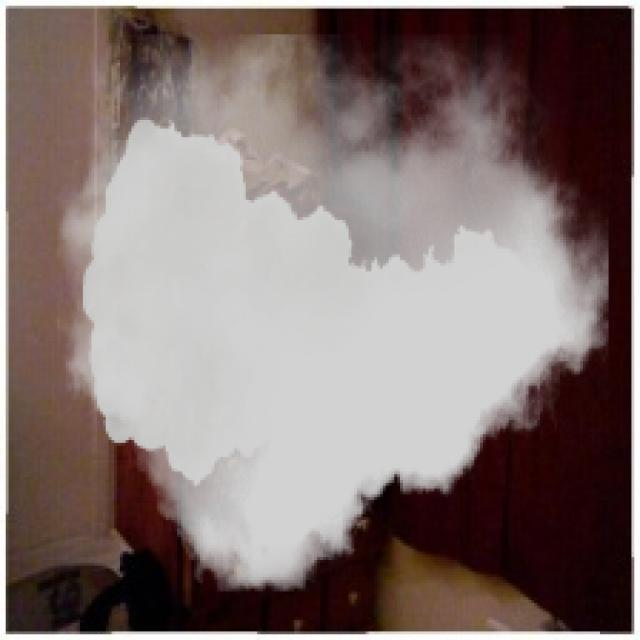Smoke: (57, 34, 609, 592)
